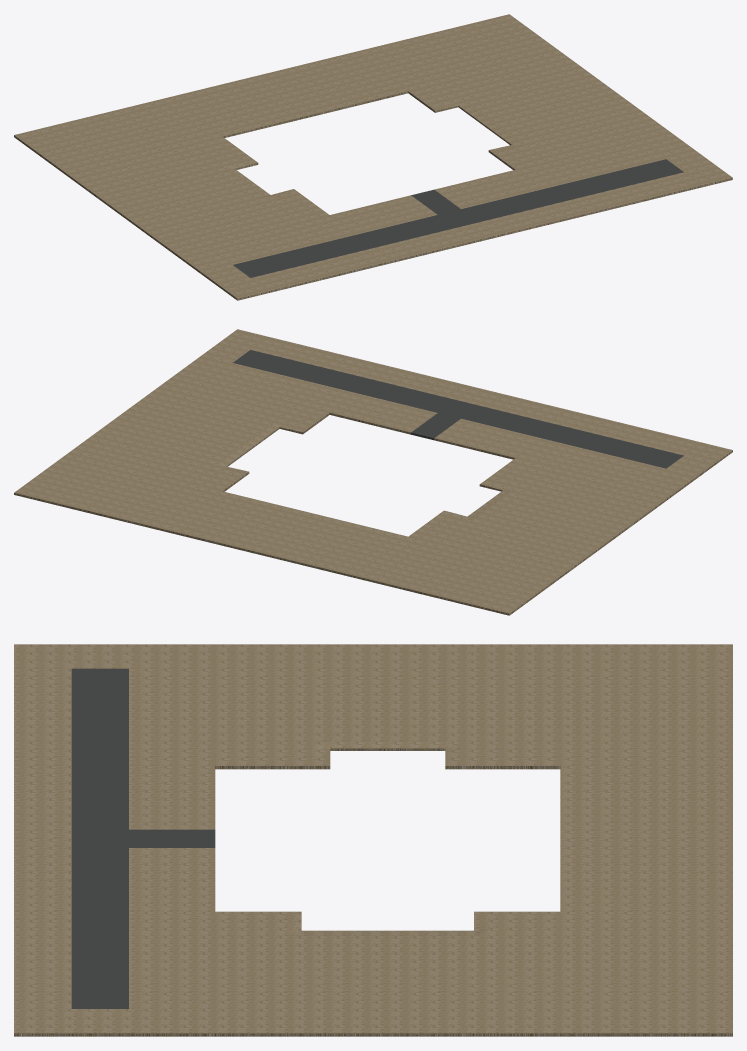
Rendered from connected_ground_render.glb.
3 views of the same model, one above another, from view 1: azimuth 30°, elevation 25°; view 2: azimuth 150°, elevation 25°; view 3: azimuth 270°, elevation 25° (orthographic). The views are drawn at different scales.
Visible parts, largest first — view 1: ground_support_000, ground_support_001, ground_support_052, ground_support_003, road_support_004, ground_support_013, ground_support_027, ground_support_005, ground_support_012, ground_support_028, ground_support_031, driveway_support_026 (+2 smaller); view 2: ground_support_000, ground_support_001, ground_support_052, ground_support_003, road_support_004, ground_support_027, ground_support_013, ground_support_012, ground_support_005, ground_support_031, ground_support_028, driveway_support_026 (+2 smaller); view 3: ground_support_000, ground_support_052, ground_support_001, ground_support_003, road_support_004, ground_support_013, ground_support_027, ground_support_005, ground_support_012, ground_support_031, ground_support_028, driveway_support_026 (+2 smaller).
Part boxes in pixels (x1,y1,x2,y2): ground_support_000: (14, 14, 562, 175); ground_support_001: (67, 144, 324, 274); ground_support_052: (439, 53, 696, 181); ground_support_003: (219, 165, 732, 300); road_support_004: (233, 159, 683, 277); ground_support_013: (299, 195, 437, 242); ground_support_027: (434, 162, 572, 208); ground_support_005: (192, 136, 253, 166); ground_support_012: (268, 192, 329, 222); ground_support_028: (408, 84, 460, 109); ground_support_031: (493, 146, 545, 170); driveway_support_026: (411, 189, 460, 214); ground_support_000: (14, 453, 562, 615); ground_support_001: (439, 446, 697, 576); ground_support_052: (68, 355, 325, 483); ground_support_003: (220, 329, 732, 464); road_support_004: (233, 350, 683, 468); ground_support_027: (299, 385, 437, 434); ground_support_013: (434, 418, 572, 465); ground_support_012: (485, 458, 545, 488); ground_support_005: (409, 513, 469, 543); ground_support_031: (277, 405, 329, 430); ground_support_028: (192, 467, 244, 491); driveway_support_026: (411, 413, 460, 440); ground_support_000: (560, 644, 732, 1036); ground_support_052: (129, 936, 560, 1036); ground_support_001: (129, 644, 560, 741); ground_support_003: (14, 644, 71, 1036); road_support_004: (71, 668, 128, 1008); ground_support_013: (129, 741, 215, 829); ground_support_027: (129, 848, 215, 935); ground_support_005: (459, 741, 560, 769); ground_support_012: (215, 741, 315, 769); ground_support_031: (215, 911, 287, 935); ground_support_028: (488, 911, 560, 935); driveway_support_026: (129, 829, 215, 847).
Bounding box in the file's own units: 128 × 0.52 × 100.
Materials: 2 (2 with a texture image).
